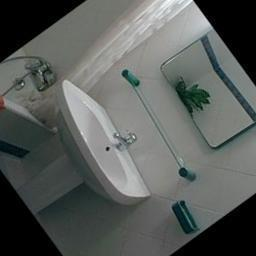Lavamanos: (20, 60, 175, 231)
